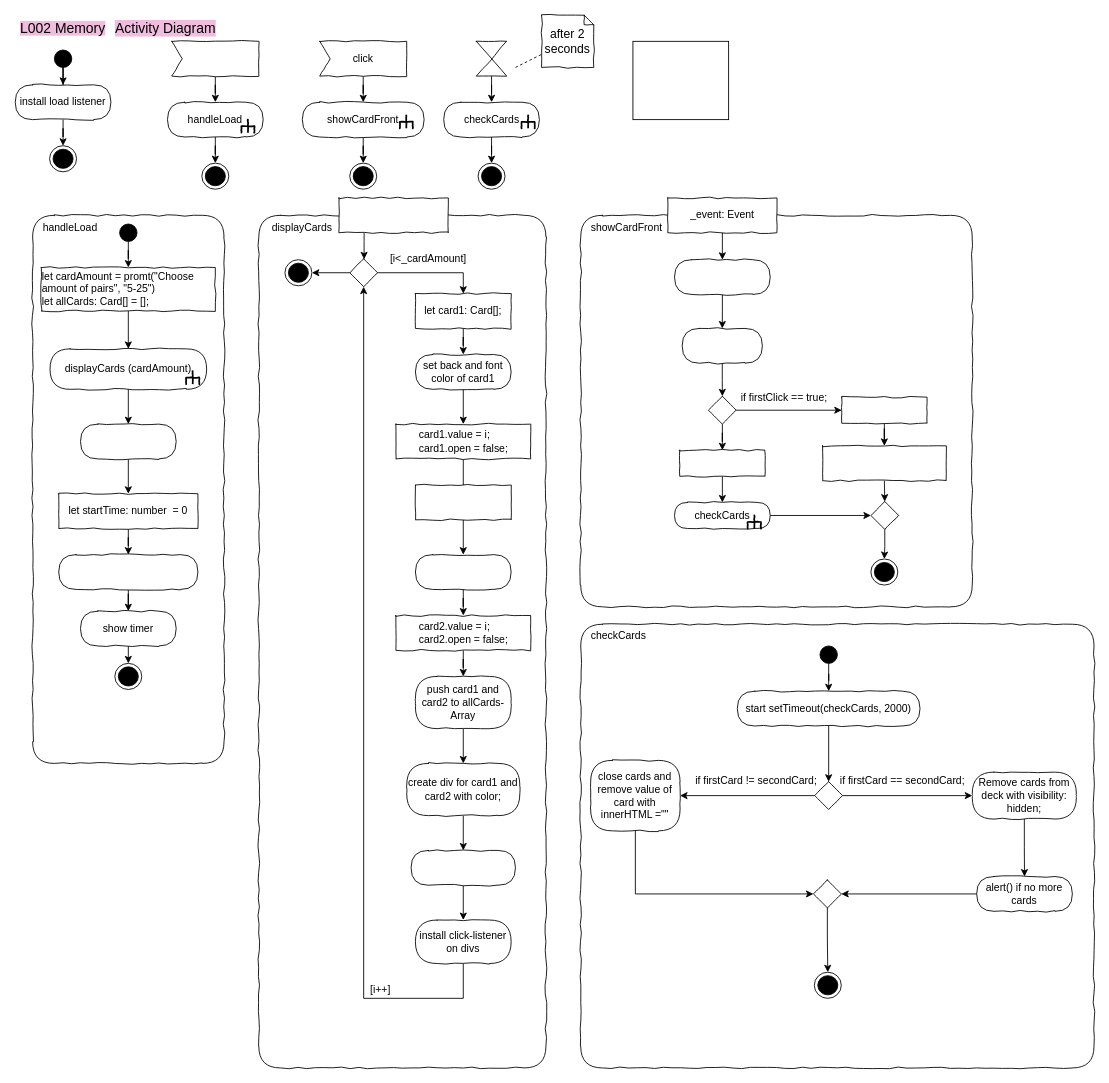
The diagram is 1109 pixels wide and 1083 high, and some of its shapes have lost their labels. The shapes that lost their labels are listed below. From the top down, each one's centre as x and y in pixels, then its label:
At (x=215, y=58): "load".
At (x=680, y=80): "<<Interface>> Interface let value: number; let open: boolean;".
At (x=393, y=215): "_cardAmount: number".
At (x=722, y=276): "get class of eventTarget".
At (x=721, y=345): "display value i on card".
At (x=884, y=409): "firstClick = false;".
At (x=128, y=441): "install click-listener on document".
At (x=722, y=462): "firstClick = true;".
At (x=884, y=463): "let firstClickValue: string = eventTarget.classList;".
At (x=463, y=502): "let card2: Card[];".
At (x=128, y=571): "setInterval(function() {startTime +=1;},1000)".
At (x=463, y=571): "set back and font color of card2".
At (x=462, y=867): "add i as class".
